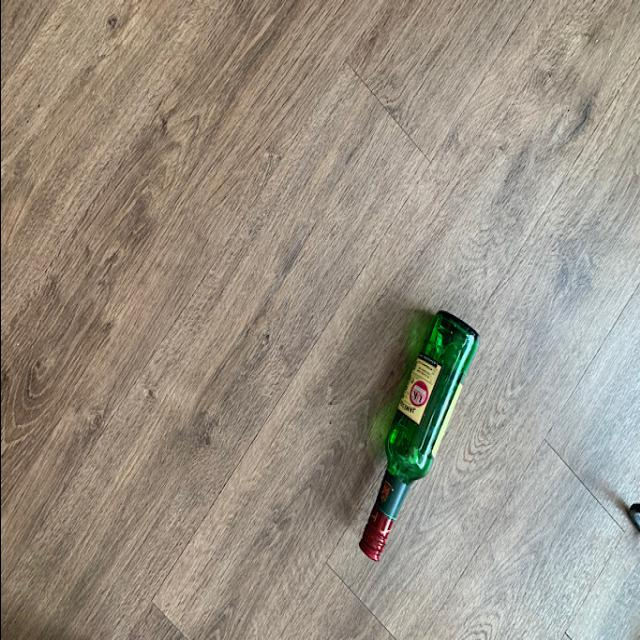litter: (355, 302, 481, 566)
